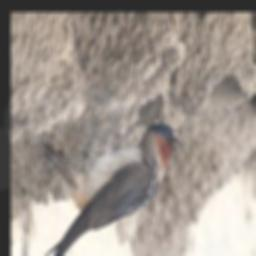Swallow: (37, 121, 185, 256)
